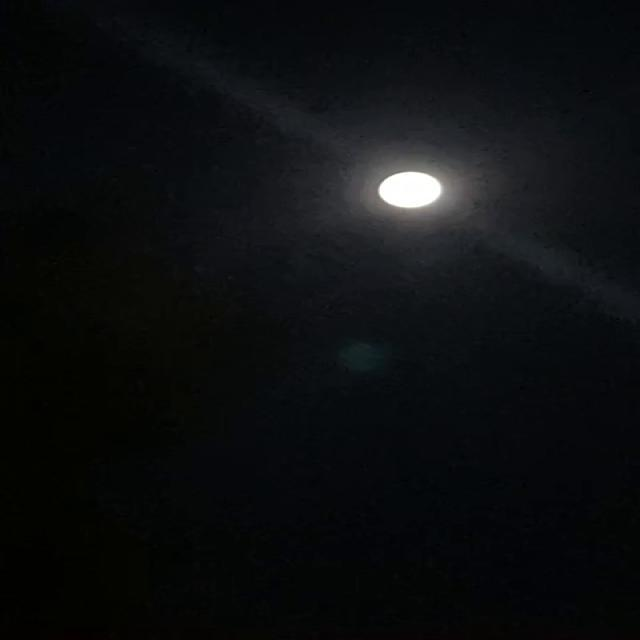moon: (342, 164, 458, 222)
